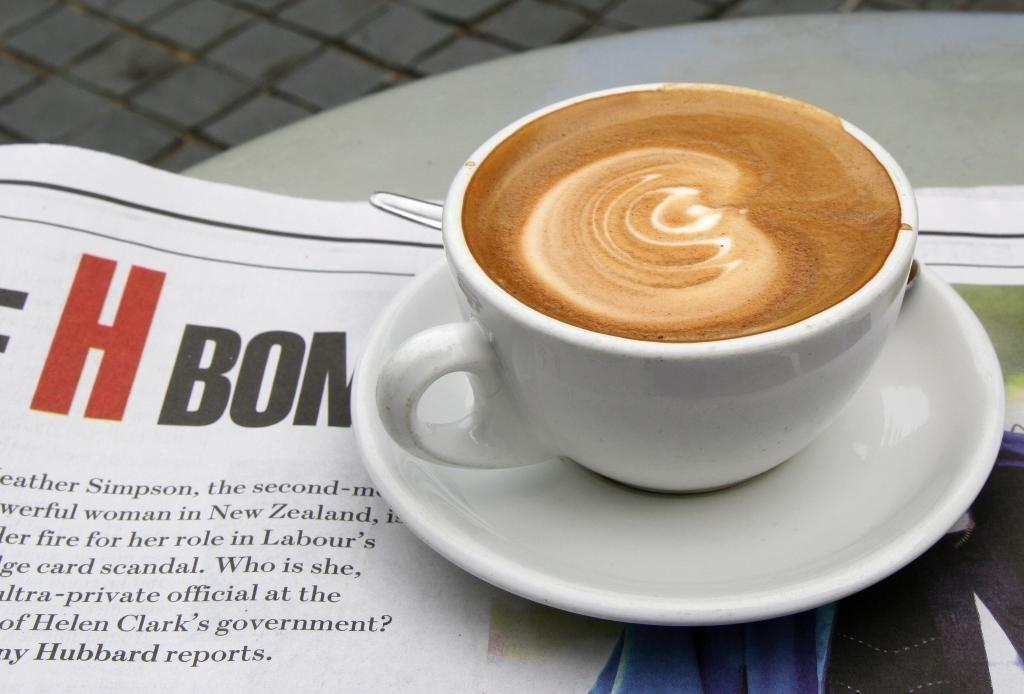cup-handle: (373, 81, 922, 495)
